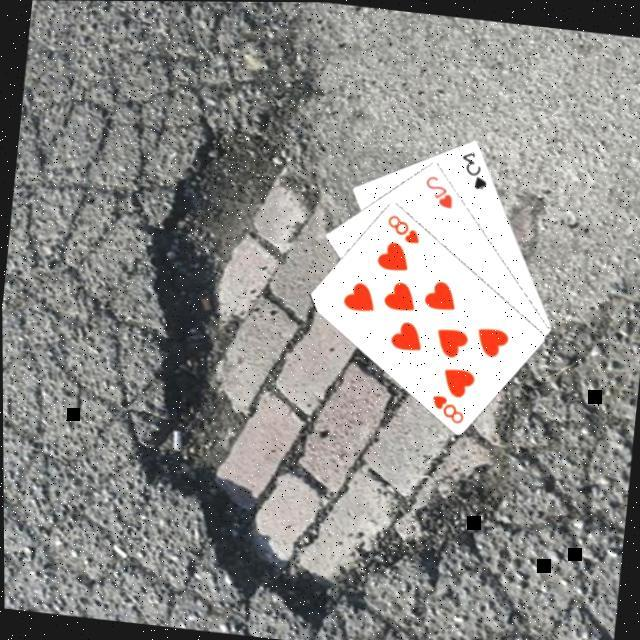2H: (418, 168, 456, 208)
3S: (454, 144, 490, 190)
8H: (381, 208, 424, 244), (425, 388, 467, 424)
